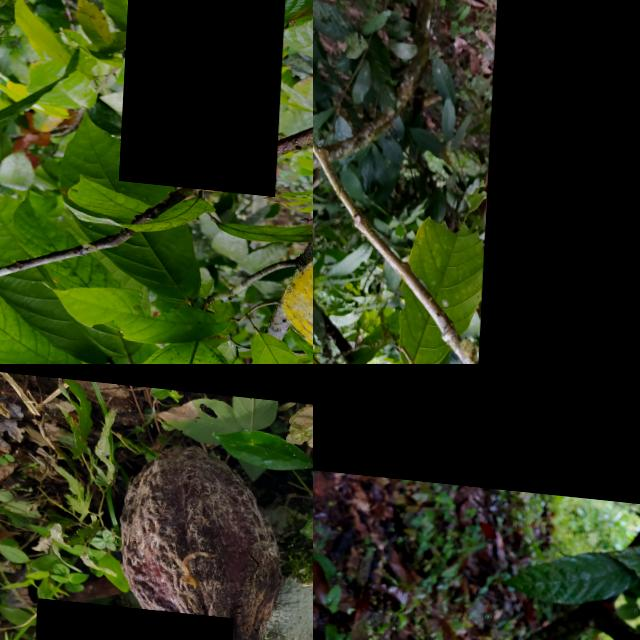Fitoftora: (124, 433, 286, 640)
Monilia: (482, 0, 640, 364), (313, 364, 640, 506), (123, 0, 288, 188)
